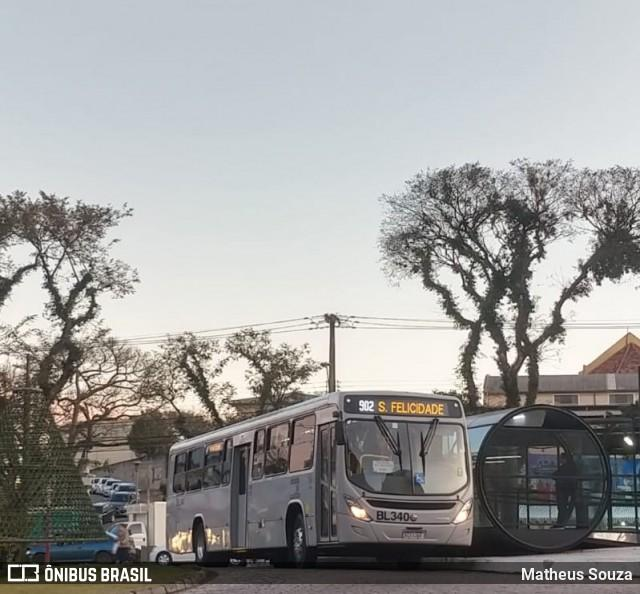S. FELICIDADE: (375, 398, 447, 418)
